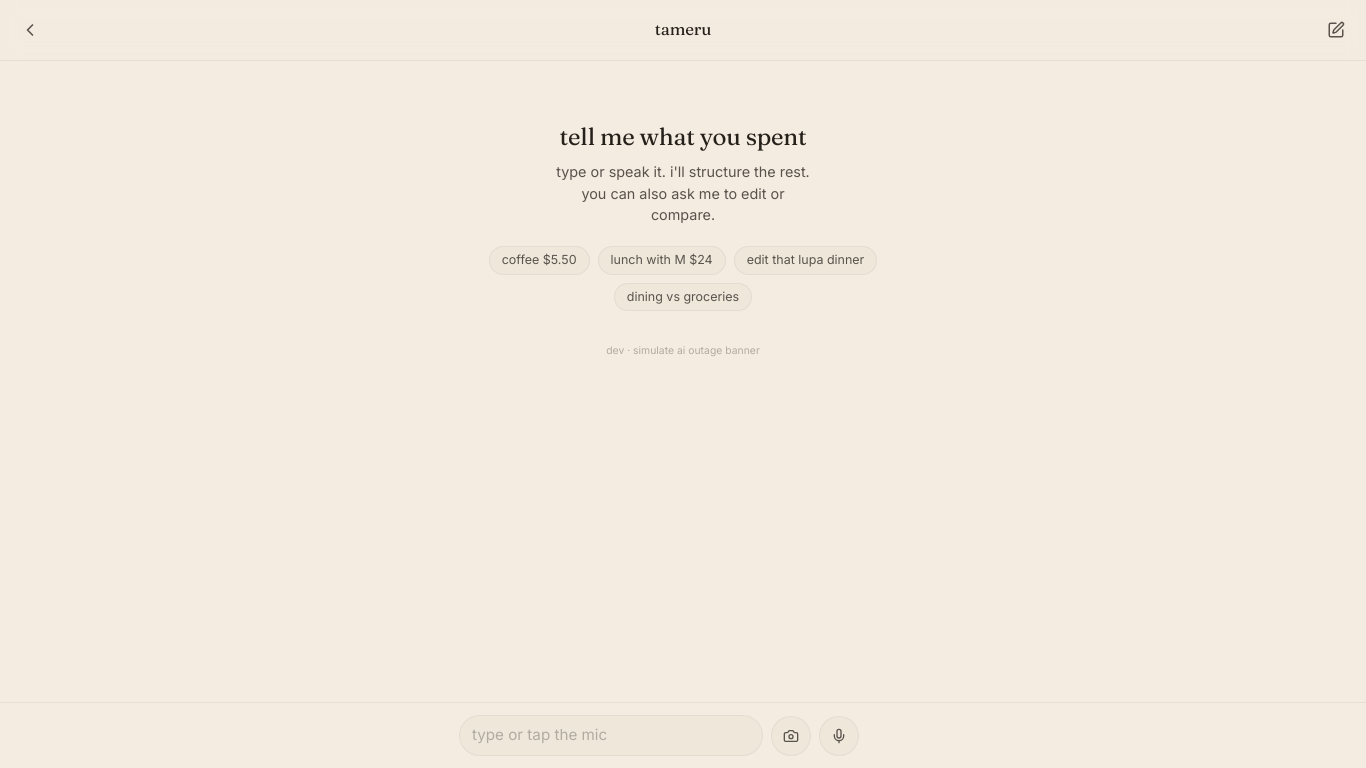
ChatPage — voice flow › tapping mic enters voice mode and renders the overlay
The image size is (1366, 768).
Click the button named "record voice". click: point(839, 736)
box: [819,716,859,756]
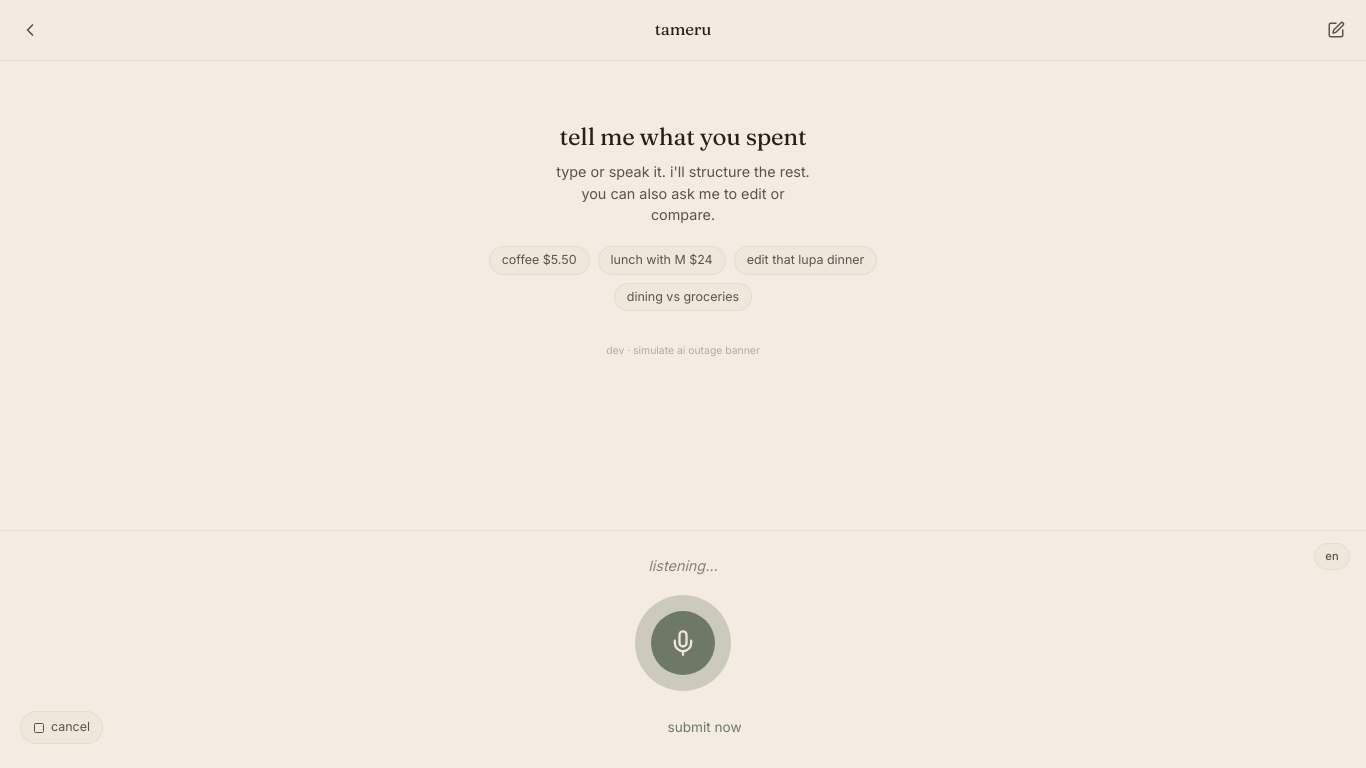
Expected: the button with aria-label "cancel voice input" is shown, [20,711,103,744]
